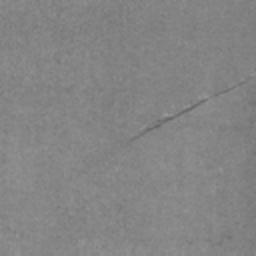Finishing roll printing: (128, 73, 256, 143)
